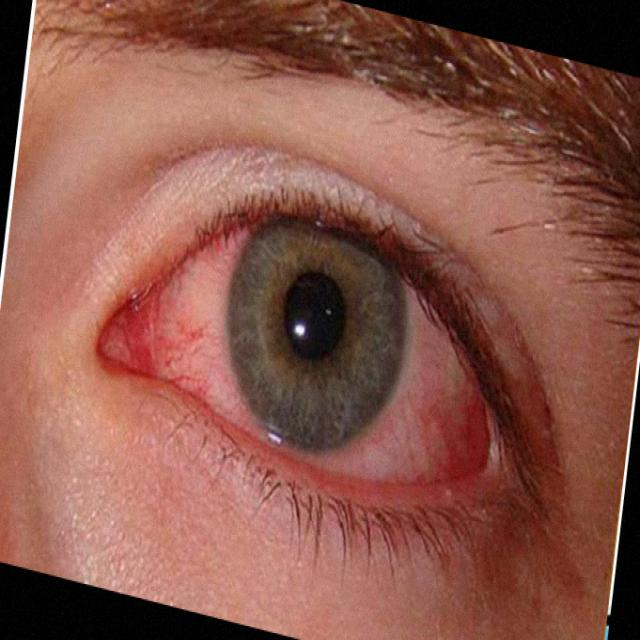Keratitis: (80, 159, 525, 539)
